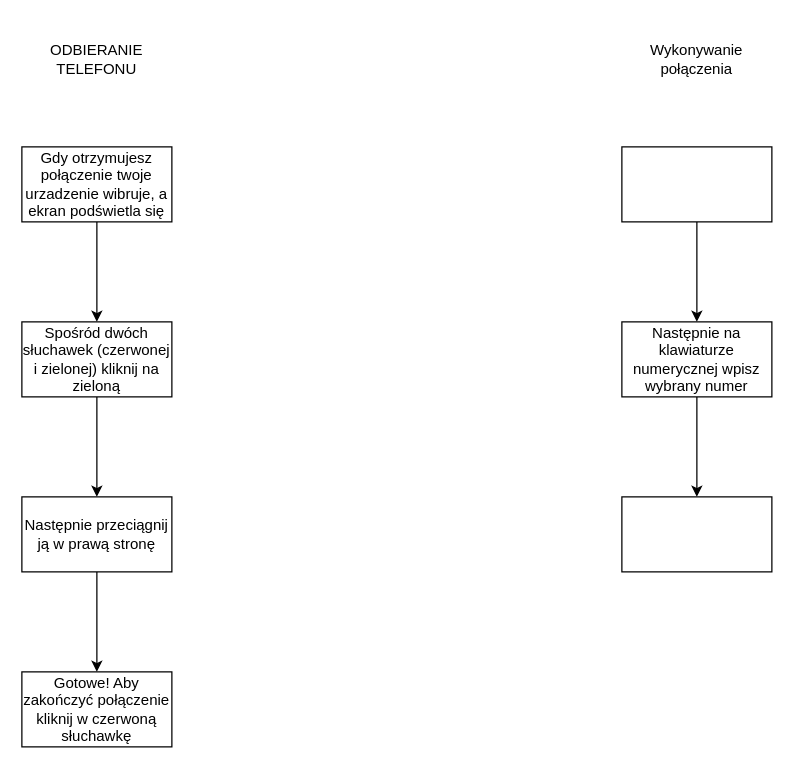
Image size: 794x769. Some labels were removed from this diagram. The box of each missing label's shape, as (x1, y1, x2, y2) in pixels:
Na ekranie startowym wybierz ikonę telefonu: (621, 146, 772, 222)
Naciśnij zieloną słuchawkę by zadzwonić: (621, 496, 772, 572)
